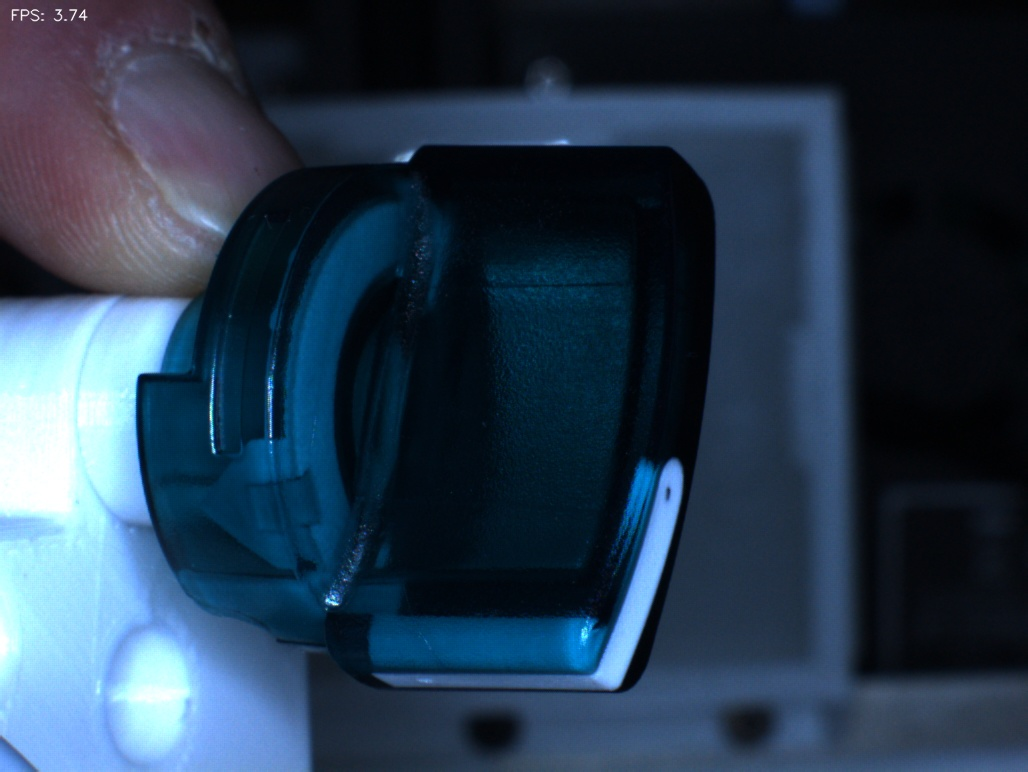PointNoir: (639, 460, 720, 542)
